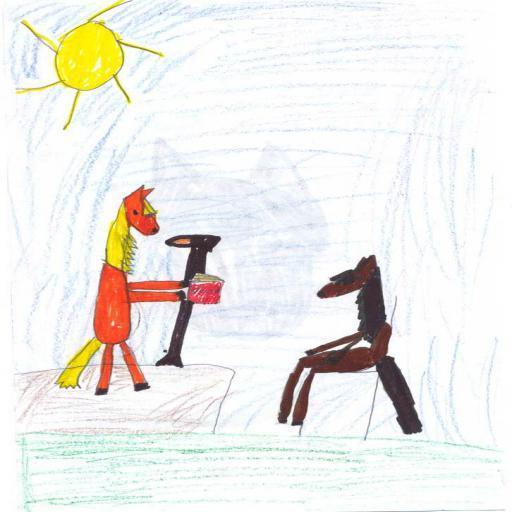horse: (55, 184, 192, 394), (272, 254, 425, 436)
